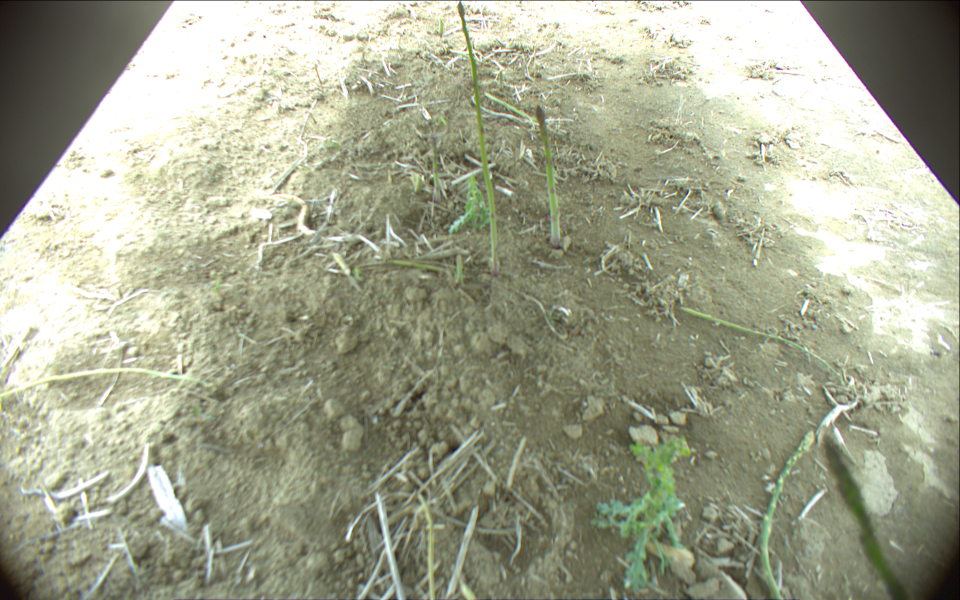aspa: (824, 437, 910, 600), (677, 304, 842, 384), (457, 1, 500, 273), (763, 432, 813, 600), (1, 368, 209, 401), (535, 104, 563, 247), (354, 259, 449, 281), (429, 134, 444, 208), (456, 255, 468, 286), (439, 18, 445, 35)
